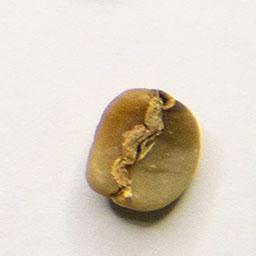defect: (82, 86, 203, 213)
